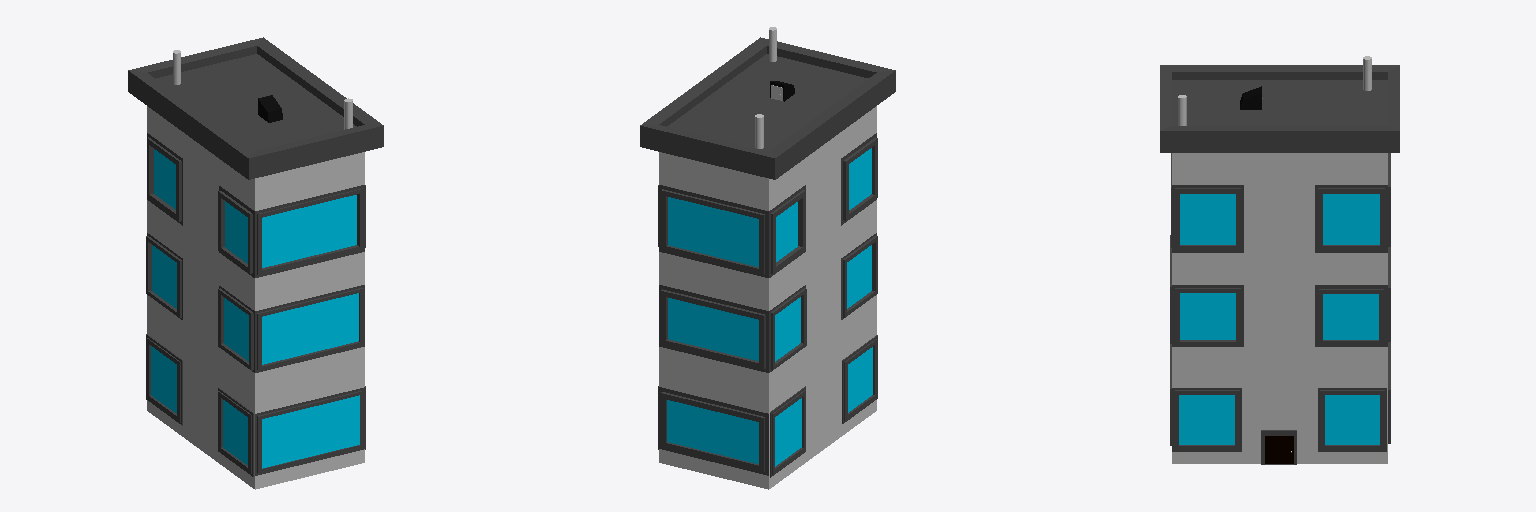
The model's file is building_1.obj.
3 views of the same model, side by side, from view 1: azimuth 30°, elevation 25°; view 2: azimuth 150°, elevation 25°; view 3: azimuth 270°, elevation 25° (orthographic).
Parts seen in each view (by area): view 1: Cube, bot_Window_4_Cube.004, bot_Window_3_Cube.003; view 2: Cube, bot_Window_4_Cube.004, bot_Window_3_Cube.003; view 3: Cube, bot_Window_1_Cube.001, bot_Window_2_Cube.002.
Part boxes in pixels (left/top/right/bottom): Cube: left=128, top=37, right=383, bottom=489; bot_Window_4_Cube.004: left=146, top=334, right=182, bottom=425; bot_Window_3_Cube.003: left=218, top=388, right=253, bottom=476; Cube: left=640, top=27, right=895, bottom=489; bot_Window_4_Cube.004: left=770, top=386, right=805, bottom=477; bot_Window_3_Cube.003: left=842, top=335, right=877, bottom=423; Cube: left=1160, top=56, right=1399, bottom=464; bot_Window_1_Cube.001: left=1172, top=388, right=1241, bottom=451; bot_Window_2_Cube.002: left=1318, top=388, right=1386, bottom=451.
Bounding box in the file's own units: 3.99 × 10.2 × 6.16.